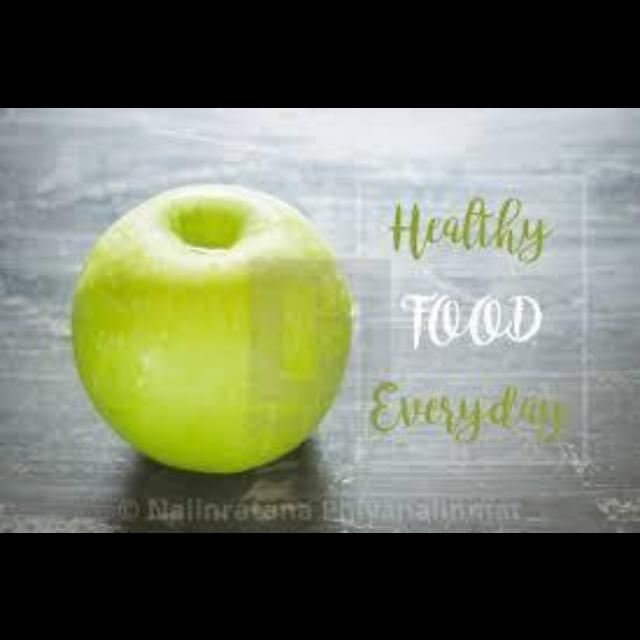apple: (72, 184, 354, 472)
